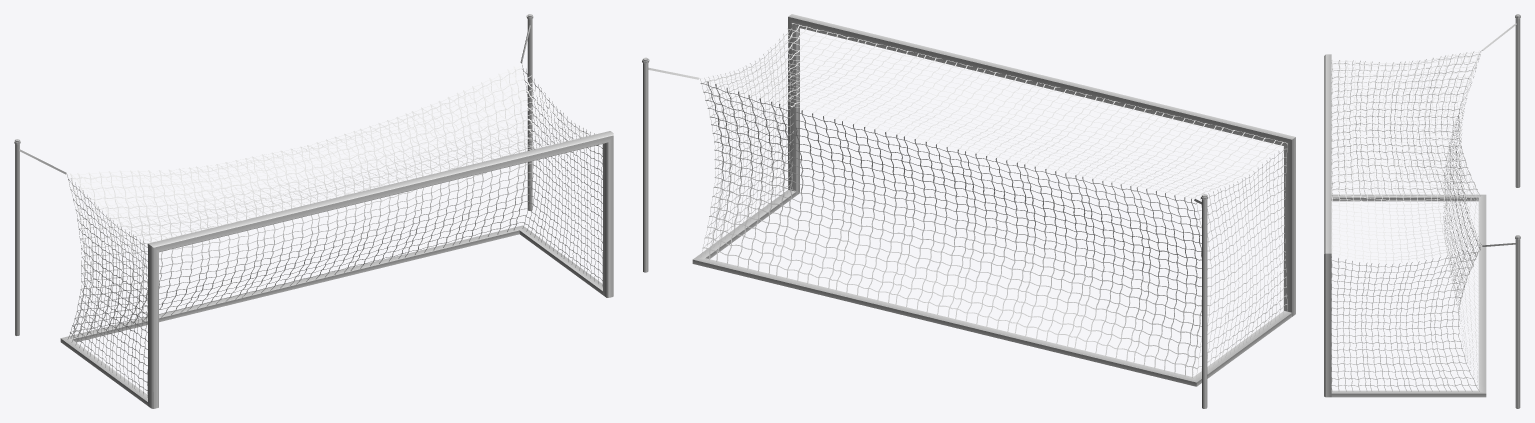
Rendered from st_goal_01_b.fbx.
The picture shows the model from 3 angles, left to right: view 1: azimuth 30°, elevation 25°; view 2: azimuth 150°, elevation 25°; view 3: azimuth 270°, elevation 25°; orthographic projection. The views are drawn at different scales.
Visible parts, largest first — view 1: net1, pole0; view 2: net1, pole0; view 3: net1, pole0.
Boxes of the visible parts, bbox=[...] form: net1: bbox=[67, 64, 602, 397]; pole0: bbox=[14, 14, 613, 408]; net1: bbox=[700, 23, 1287, 378]; pole0: bbox=[642, 14, 1295, 408]; net1: bbox=[1331, 50, 1481, 391]; pole0: bbox=[1324, 14, 1520, 408].
Size of the model in its own units: 834 by 300 by 311.
